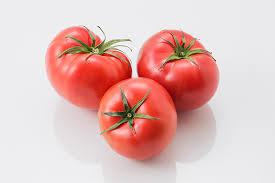tomato: (46, 24, 133, 113), (138, 28, 221, 114), (99, 76, 177, 165)
